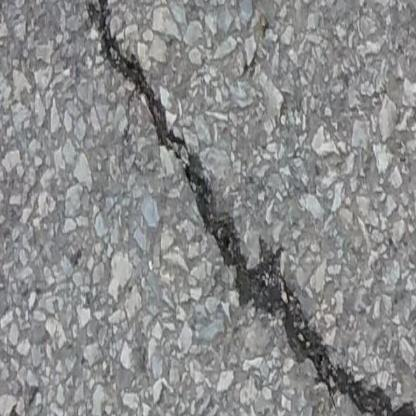Cracks: (79, 0, 416, 416)
